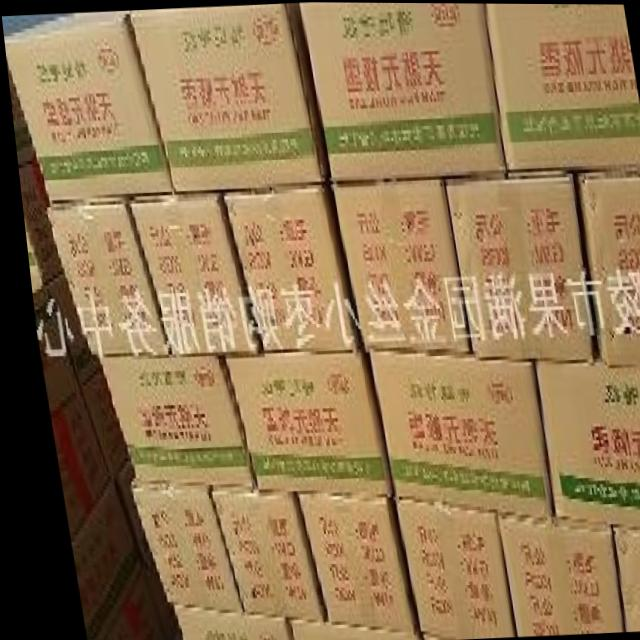box: (128, 2, 326, 195), (300, 2, 502, 184), (4, 10, 170, 204), (362, 352, 544, 523), (439, 169, 585, 362), (486, 3, 640, 169), (215, 349, 384, 496), (327, 179, 462, 354), (219, 181, 353, 352), (124, 189, 254, 354), (91, 355, 246, 493), (527, 355, 640, 534), (42, 200, 160, 358), (384, 496, 503, 636), (484, 512, 612, 636), (287, 494, 404, 628), (200, 491, 313, 622), (119, 481, 228, 612), (571, 169, 640, 364), (60, 476, 128, 640), (41, 392, 104, 542), (38, 264, 94, 386), (26, 286, 74, 414), (15, 160, 57, 295), (72, 368, 118, 476), (86, 566, 153, 640), (102, 455, 141, 569), (160, 605, 279, 640), (599, 530, 640, 631), (272, 617, 404, 640), (128, 565, 168, 640), (6, 63, 31, 168)
